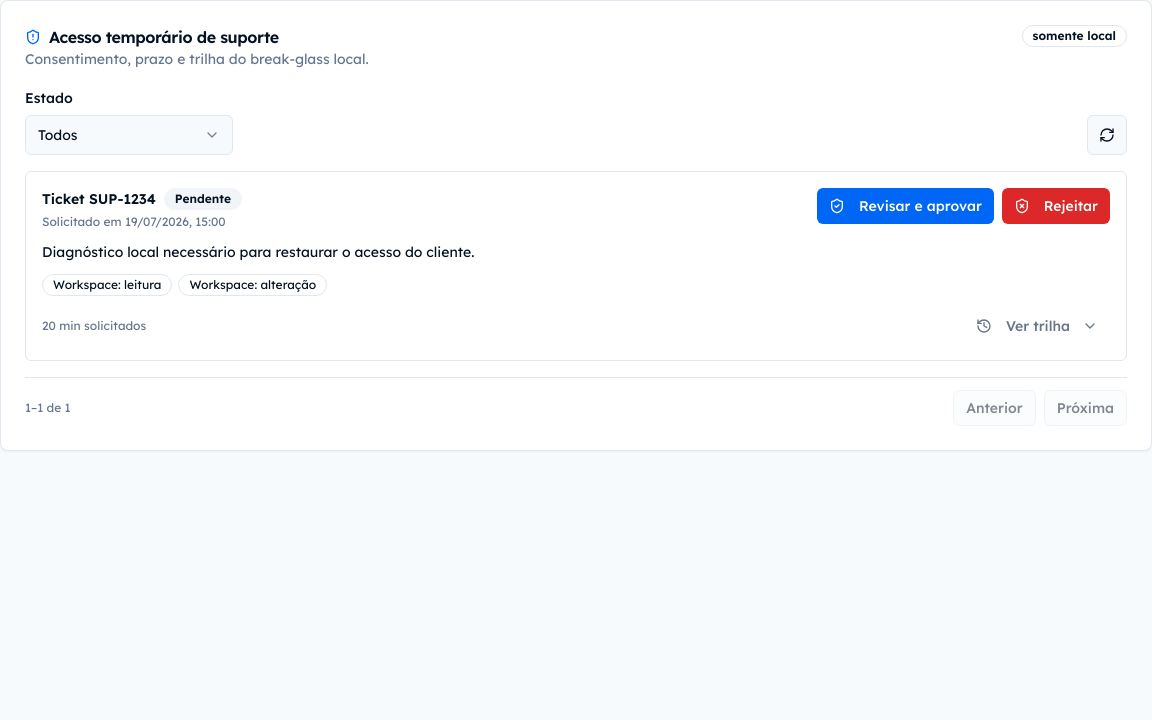
Test case: SupportAccessPanel › loads the immutable trail only when requested
Click the button "Ver trilha" at (1037, 326), box [964, 308, 1110, 344]
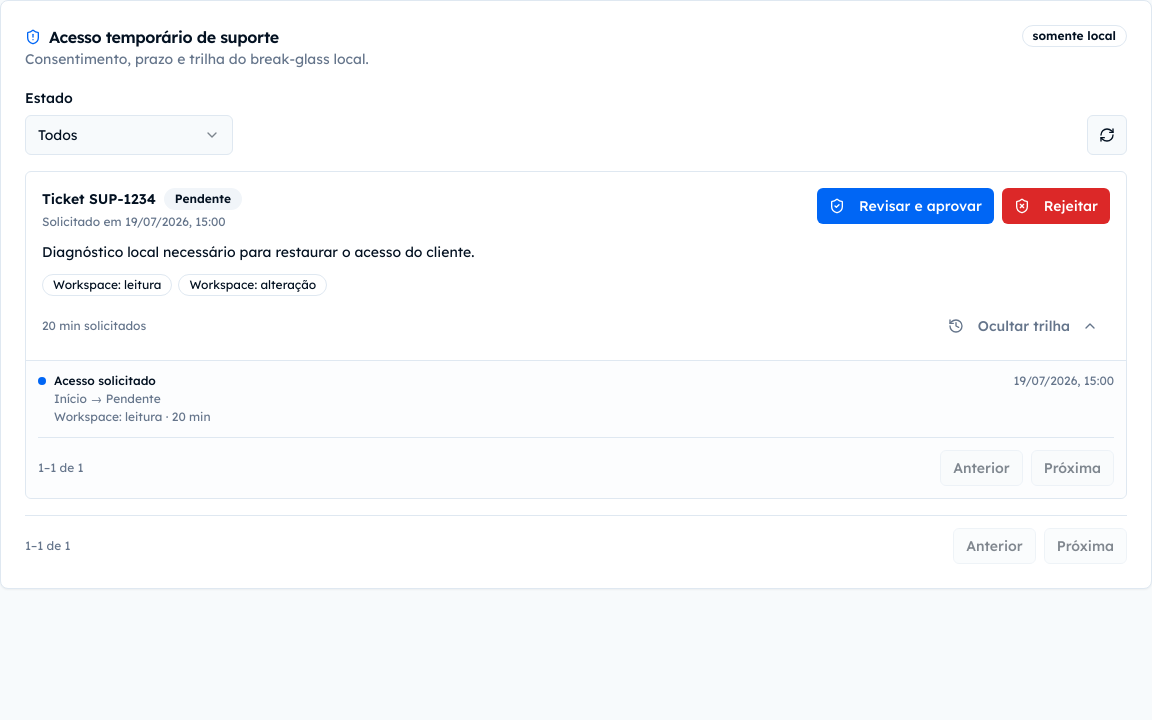
Check: the text "Acesso solicitado" is shown, box [54, 373, 156, 389]
